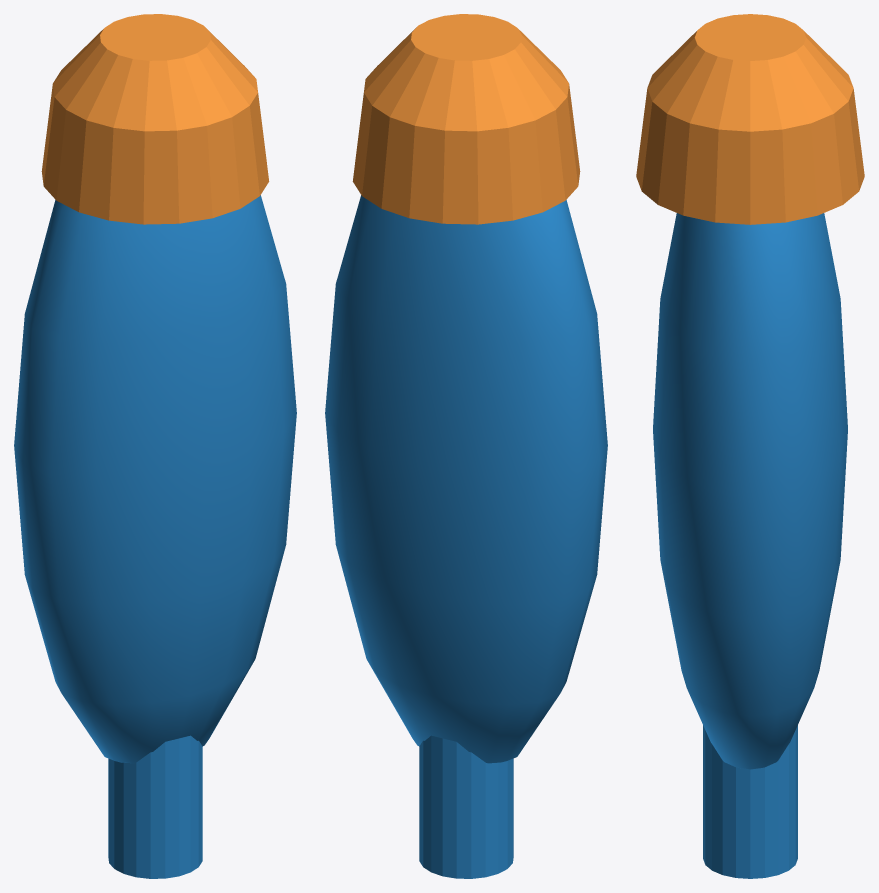
The model's file is pulse.glb.
The picture shows the model from 3 angles, left to right: view 1: azimuth 30°, elevation 25°; view 2: azimuth 150°, elevation 25°; view 3: azimuth 270°, elevation 25°; orthographic projection.
Visible parts, largest first — view 1: PulseHousing, PulseEmitter, PulseGrip; view 2: PulseHousing, PulseEmitter, PulseGrip; view 3: PulseHousing, PulseEmitter, PulseGrip.
Boxes of the visible parts, <box> form: PulseHousing: <box>14,195,296,763</box>; PulseEmitter: <box>41,14,269,224</box>; PulseGrip: <box>108,735,202,878</box>; PulseHousing: <box>325,195,607,763</box>; PulseEmitter: <box>352,14,580,224</box>; PulseGrip: <box>419,735,513,878</box>; PulseHousing: <box>653,213,847,769</box>; PulseEmitter: <box>636,14,864,224</box>; PulseGrip: <box>703,725,797,878</box>.
Bounding box in the file's own units: 0.22 × 0.65 × 0.164.
